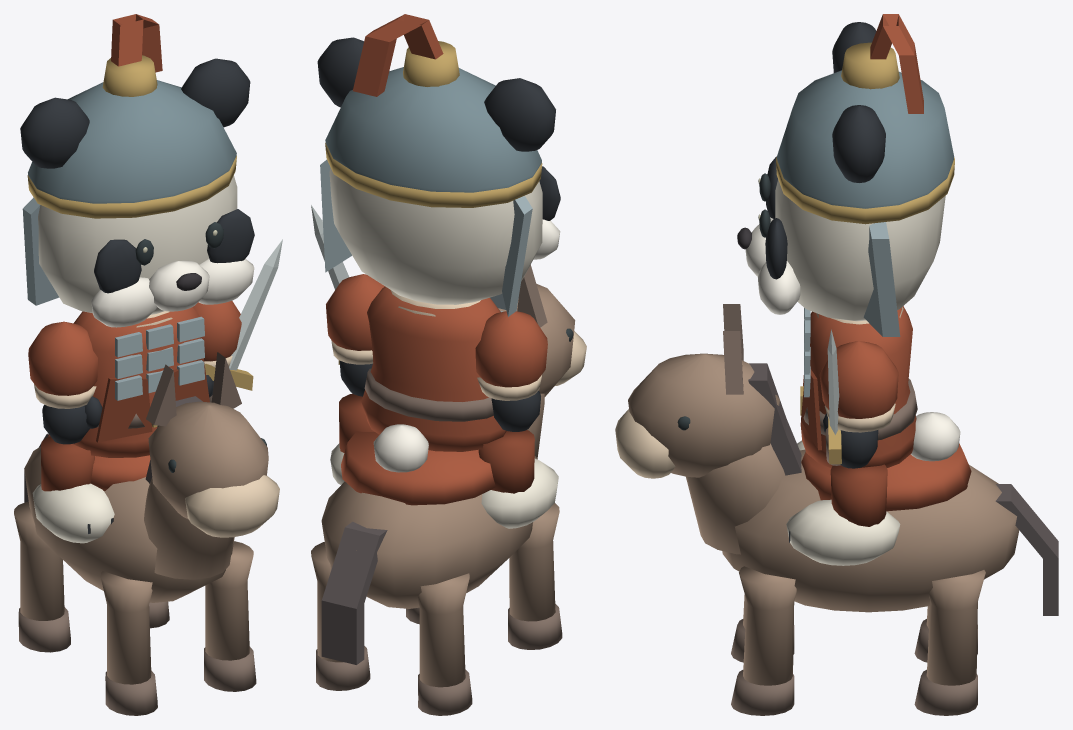
File: rider.glb
3 views of the same model, side by side, from view 1: azimuth 30°, elevation 25°; view 2: azimuth 150°, elevation 25°; view 3: azimuth 270°, elevation 25° (orthographic). The views are drawn at different scales.
Parts seen in each view (by area): view 1: Regional helmet, Animal cheek head, Pony head, Plump pony body, Short folded tunic, Pony neck, Pony stubby leg, Pony stubby leg.001, Puff sleeve, Pony muzzle, Pony stubby leg.002, Soft animal paw (+35 smaller); view 2: Regional helmet, Animal cheek head, Plump pony body, Short folded tunic, Saddle blanket, Pony tail, Pony stubby leg.002, Puff sleeve, Pony stubby leg, Panda round ear, Red silk tassel, Helmet brow band (+25 smaller); view 3: Plump pony body, Regional helmet, Pony head, Animal cheek head, Pony neck, Short folded tunic, Pony stubby leg.001, Pony stubby leg.003, Soft animal paw.001, Saddle blanket, Puff sleeve.001, Panda round ear.001 (+21 smaller).
Boxes of the visible parts, x1,y1,x2,y2 form: Regional helmet: (28, 80, 236, 203); Animal cheek head: (38, 175, 237, 314); Pony head: (148, 401, 268, 519); Plump pony body: (24, 446, 234, 602); Short folded tunic: (73, 307, 199, 457); Pony neck: (144, 477, 233, 579); Pony stubby leg: (100, 571, 152, 684); Pony stubby leg.001: (205, 541, 253, 660); Puff sleeve: (28, 321, 97, 395); Pony muzzle: (185, 475, 279, 537); Pony stubby leg.002: (14, 501, 64, 620); Soft animal paw: (32, 483, 114, 543); Regional helmet: (325, 67, 541, 192); Animal cheek head: (329, 168, 542, 304); Plump pony body: (321, 456, 537, 608); Short folded tunic: (361, 286, 506, 451); Saddle blanket: (341, 431, 495, 505); Pony tail: (321, 521, 387, 664); Pony stubby leg.002: (417, 573, 469, 687); Puff sleeve: (475, 311, 547, 387); Pony stubby leg: (509, 503, 559, 621); Panda round ear: (484, 78, 555, 151); Red silk tassel: (353, 14, 443, 96); Helmet brow band: (325, 143, 542, 207); Plump pony body: (722, 449, 1019, 612); Regional helmet: (777, 70, 954, 208); Pony head: (628, 353, 779, 477); Animal cheek head: (775, 179, 945, 321); Pony neck: (686, 443, 785, 554); Short folded tunic: (800, 306, 916, 467); Pony stubby leg.001: (739, 566, 796, 685); Pony stubby leg.003: (926, 570, 985, 685); Soft animal paw.001: (786, 499, 900, 565); Saddle blanket: (801, 443, 971, 511); Puff sleeve.001: (819, 341, 898, 418); Panda round ear.001: (832, 105, 885, 182).
Bounding box in the file's own units: 0.9542 × 2.31 × 1.4.
